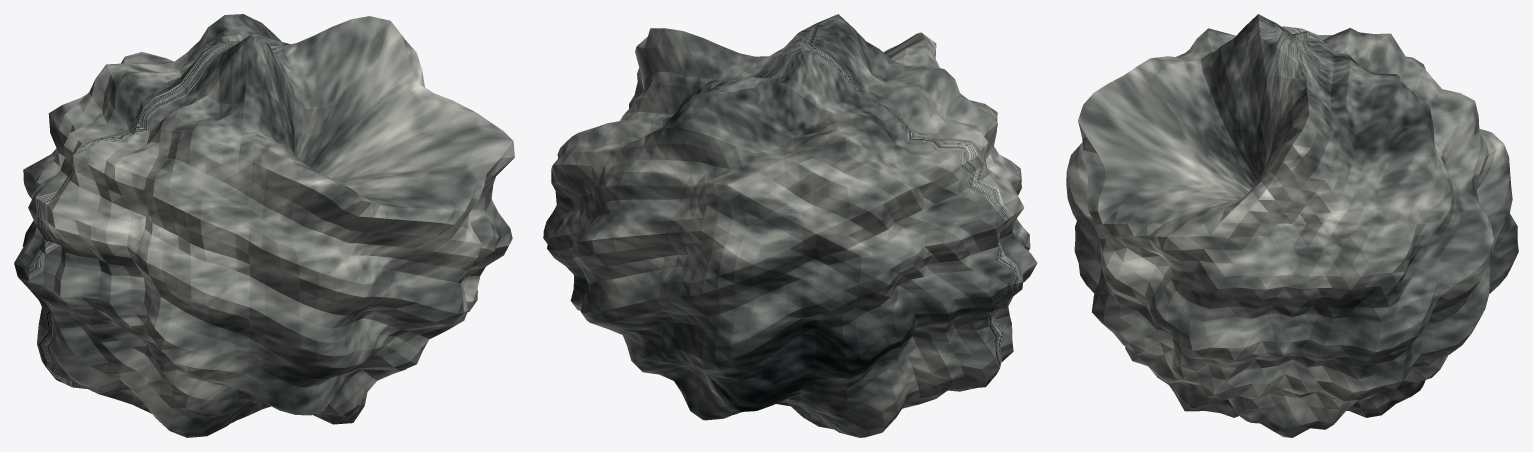
Rendered from crater.glb.
3 views of the same model, side by side, from view 1: azimuth 30°, elevation 25°; view 2: azimuth 150°, elevation 25°; view 3: azimuth 270°, elevation 25° (orthographic). The views are drawn at different scales.
Visible parts, largest first — view 1: rock; view 2: rock; view 3: rock.
Boxes of the visible parts, x1,y1,x2,y2 form: rock: (14,14,514,437); rock: (543,14,1037,437); rock: (1066,14,1518,437).
Bounding box in the file's own units: 19.22 × 16.44 × 17.6.
1 material, 1 textured.
